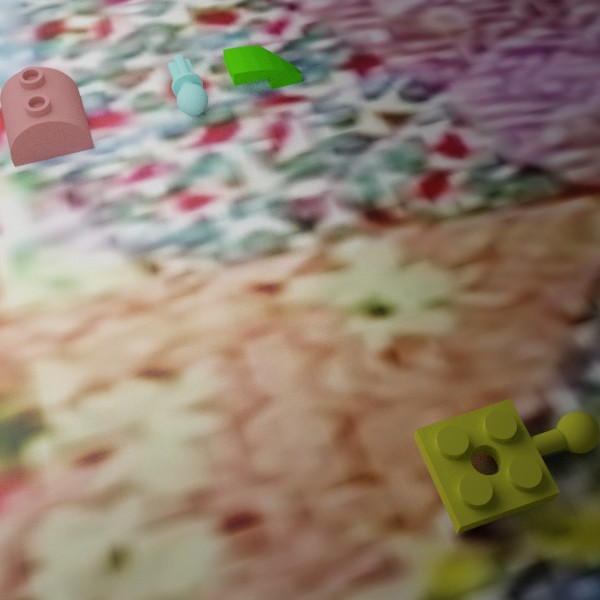lego: (413, 398, 600, 533), (0, 66, 94, 167), (222, 45, 301, 89), (167, 54, 208, 115)
